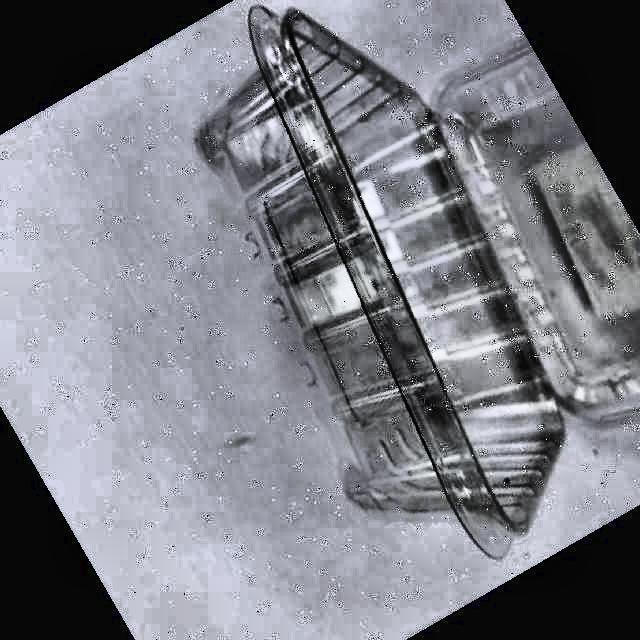plastic: (196, 8, 640, 558)
